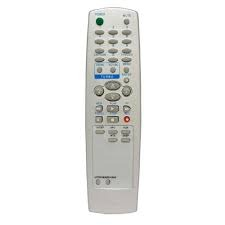remote control: (82, 8, 146, 215)
